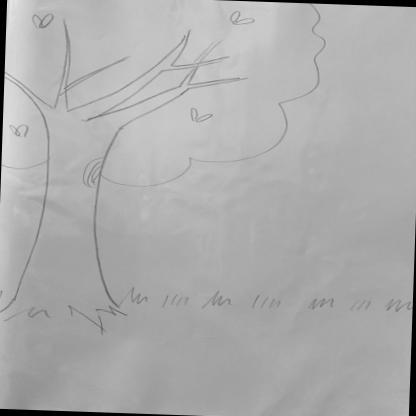branch_sharp: (5, 20, 254, 132)
crown_cloud: (4, 0, 327, 195)
knot: (73, 154, 109, 192)
root_upside: (0, 276, 161, 351)
trunk_reflex: (25, 190, 111, 275)
